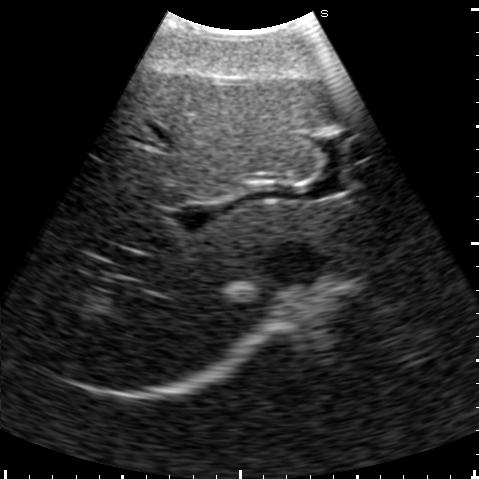IVC: (271, 244, 321, 280)
S4: (99, 71, 340, 198)
Tumor: (225, 281, 256, 300), (316, 124, 342, 139)
